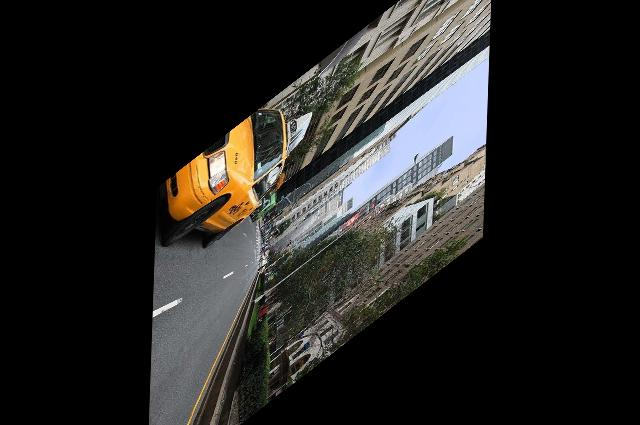taxi: (155, 106, 291, 248)
